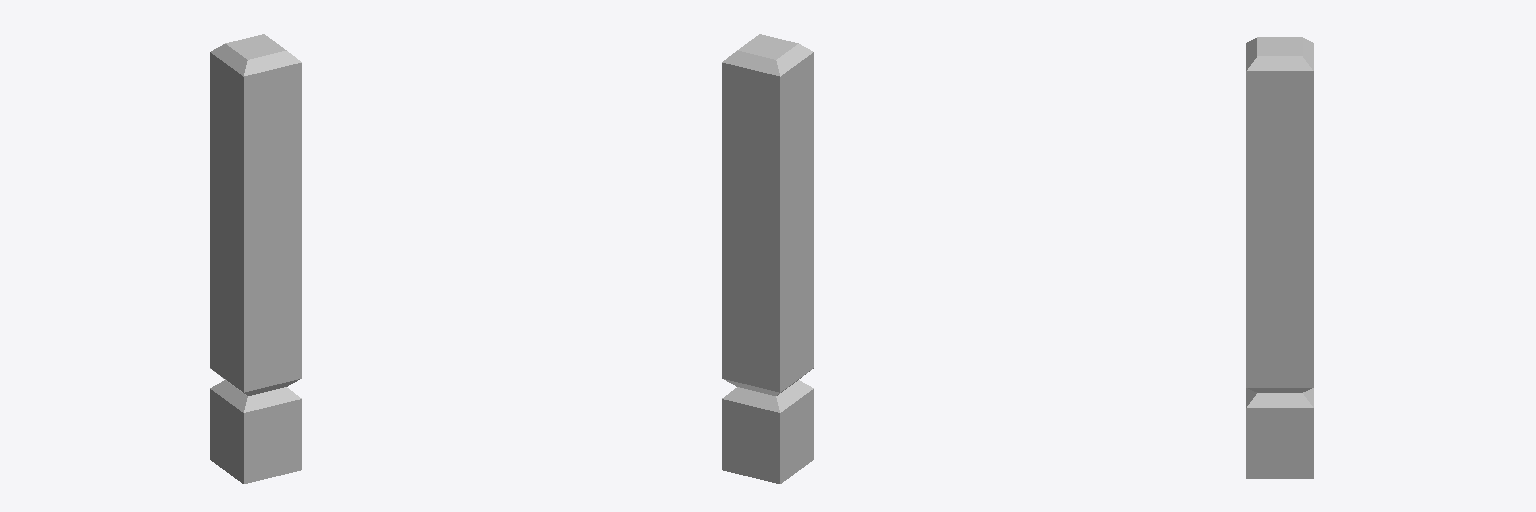
Rendered from Pillar_A.obj.
3 renders of one model, left to right at view 1: azimuth 30°, elevation 25°; view 2: azimuth 150°, elevation 25°; view 3: azimuth 270°, elevation 25°, orthographic.
Visible parts, largest first — view 1: Pillar_A_Cube.16099; view 2: Pillar_A_Cube.16099; view 3: Pillar_A_Cube.16099.
Boxes of the visible parts, <box> form: Pillar_A_Cube.16099: <box>210,34,301,483</box>; Pillar_A_Cube.16099: <box>722,34,813,483</box>; Pillar_A_Cube.16099: <box>1246,37,1313,478</box>.
Size of the model in its own units: 0.6 by 4.1 by 0.6.